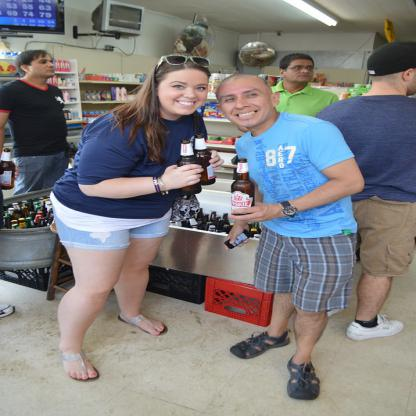drinking: (231, 159, 255, 216), (178, 139, 202, 195), (192, 134, 216, 186), (0, 148, 16, 190)
